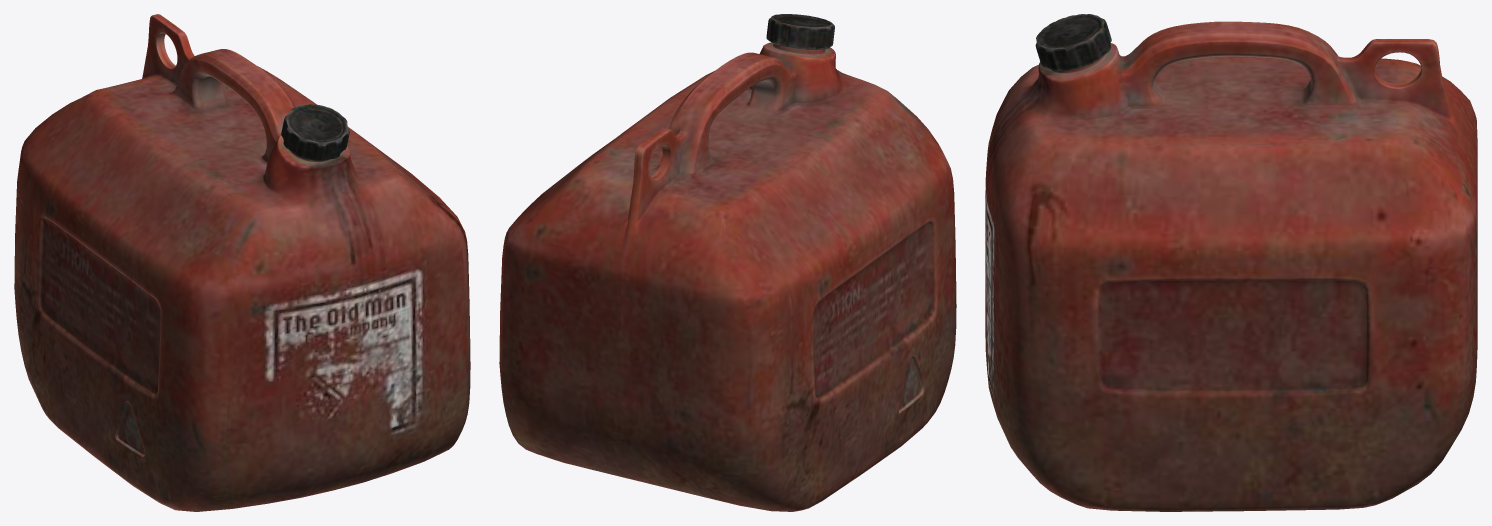
The picture shows the model from 3 angles, left to right: view 1: azimuth 30°, elevation 25°; view 2: azimuth 150°, elevation 25°; view 3: azimuth 270°, elevation 25°; orthographic projection. The views are drawn at different scales.
Parts seen in each view (by area): view 1: plastic_jerrycan; view 2: plastic_jerrycan; view 3: plastic_jerrycan.
Boxes of the visible parts, x1,y1,x2,y2 form: plastic_jerrycan: (14,14,470,511); plastic_jerrycan: (499,14,956,511); plastic_jerrycan: (985,14,1477,511).
Bounding box in the file's own units: 0.268 × 0.3184 × 0.3409.
1 material, 1 textured.
